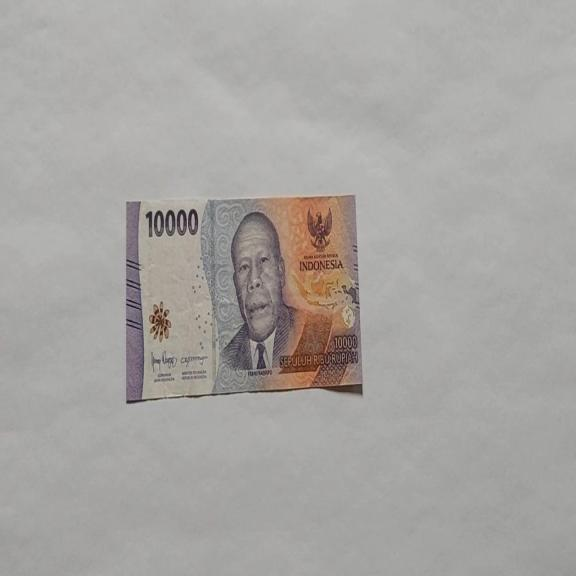Kertas: (125, 193, 363, 403), (144, 206, 199, 239)
